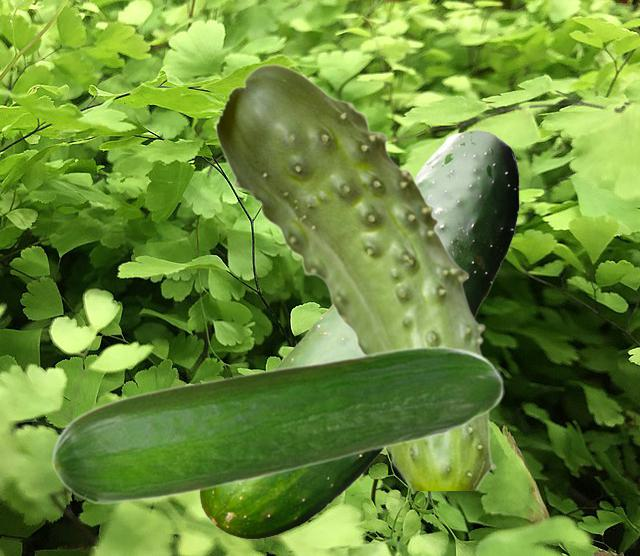cucumber: (199, 129, 518, 538), (214, 63, 496, 489), (51, 345, 503, 504)
